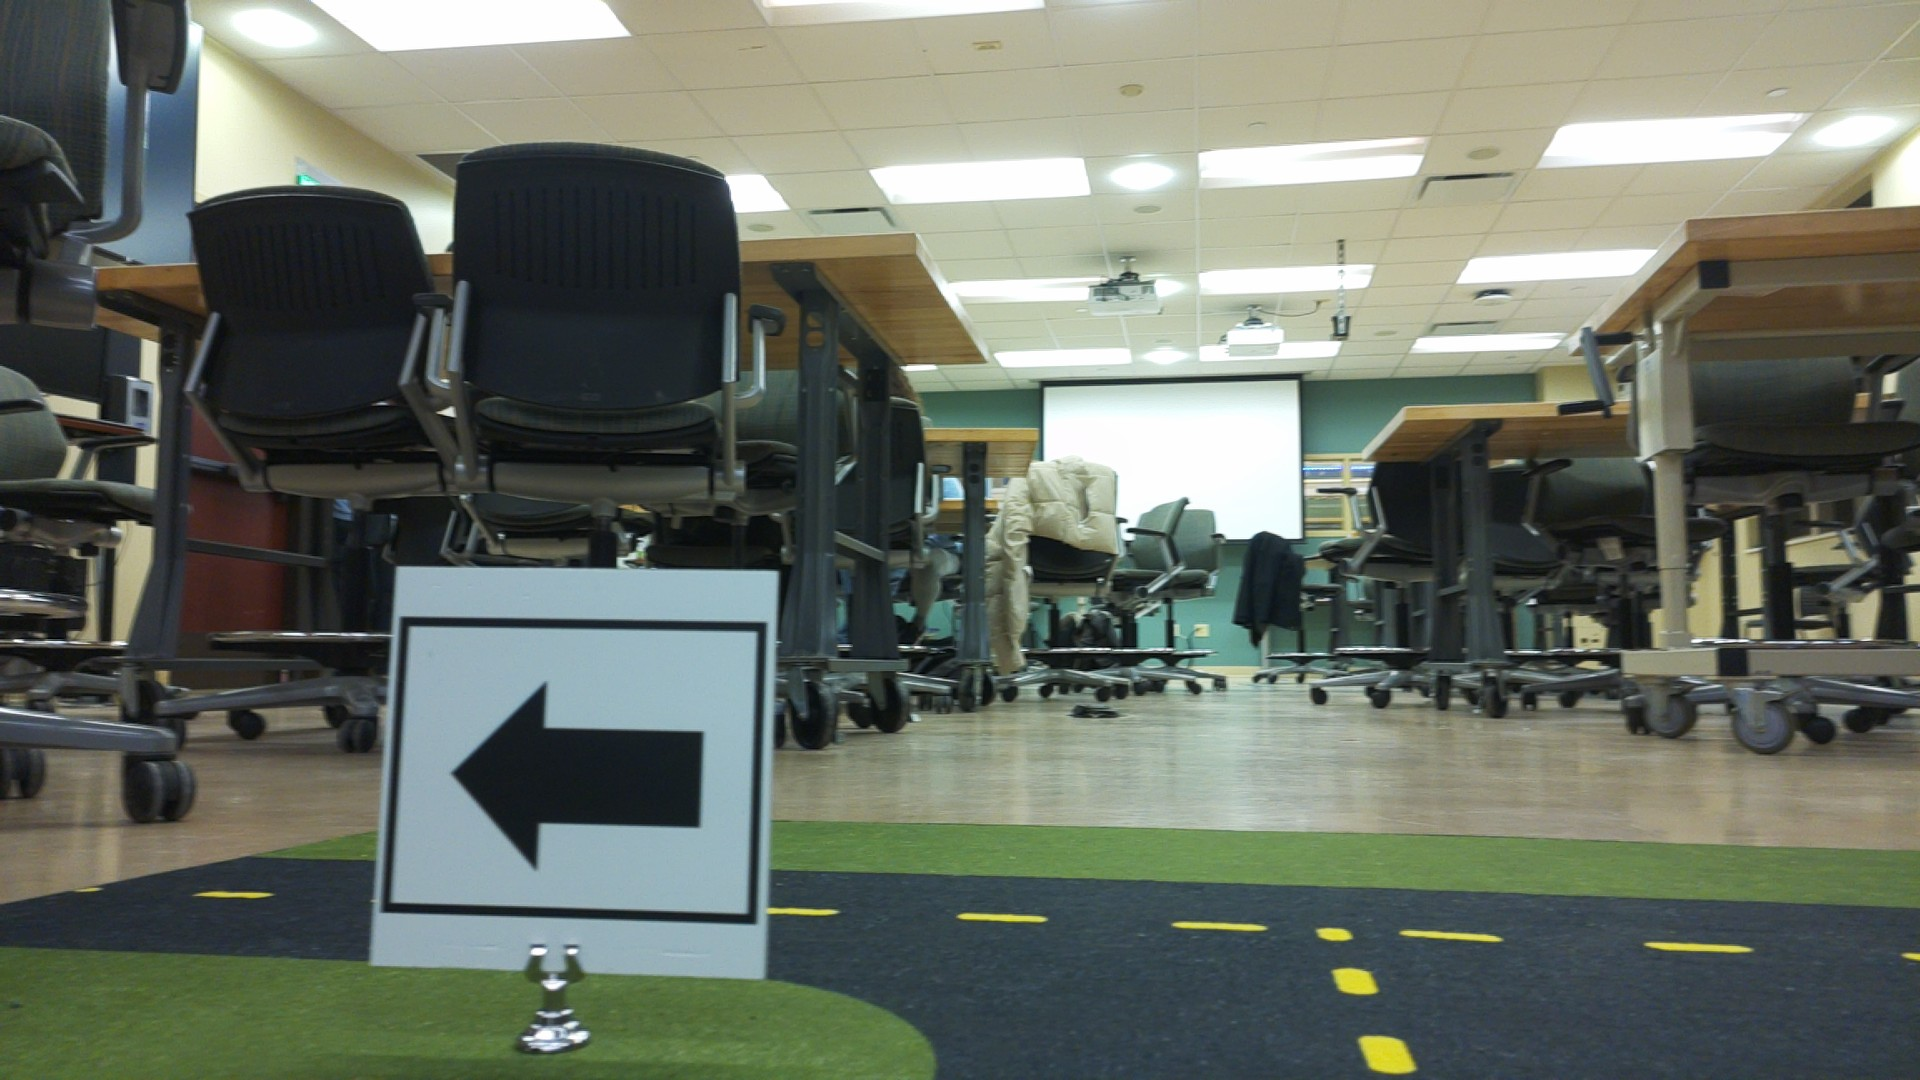turnleft: (404, 574, 764, 971)
